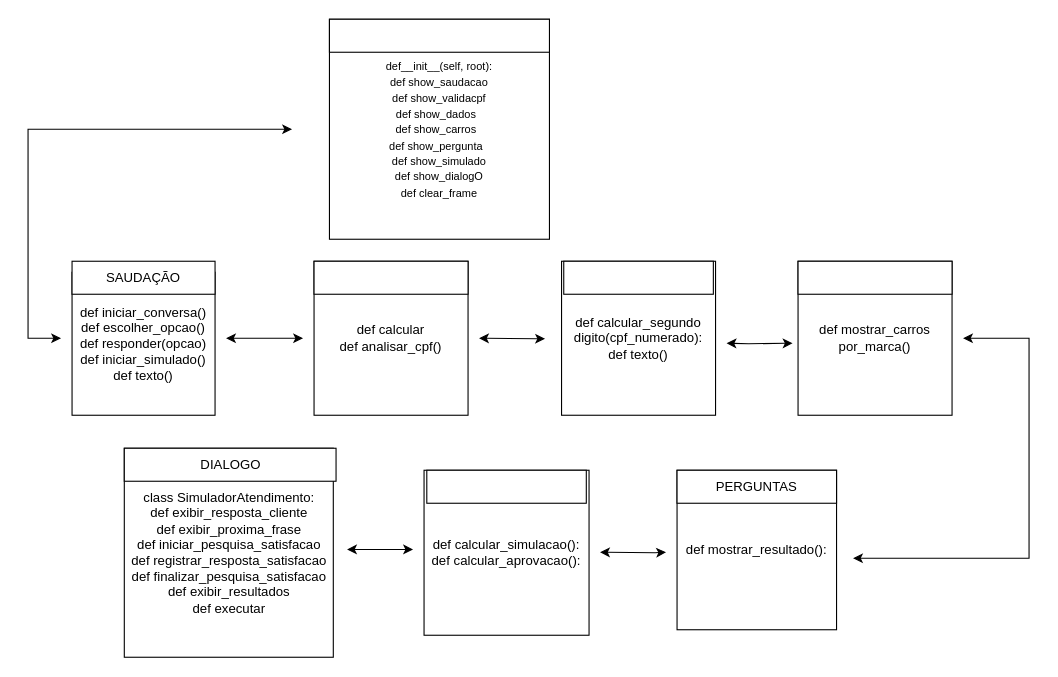
Some shapes in this 1058 by 677 pixel diagram are drawn without their labels. The shapes that lost their labels are listed below. From the top down, each one's centre as x and y in pixels, then its label:
point (438, 35): AUTORAIO
point (390, 277): VALIDACPF
point (638, 277): DADOS
point (874, 277): CARROS
point (506, 486): SIMULADO
